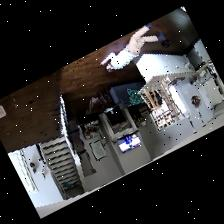person: (101, 23, 164, 71), (124, 136, 132, 147)
